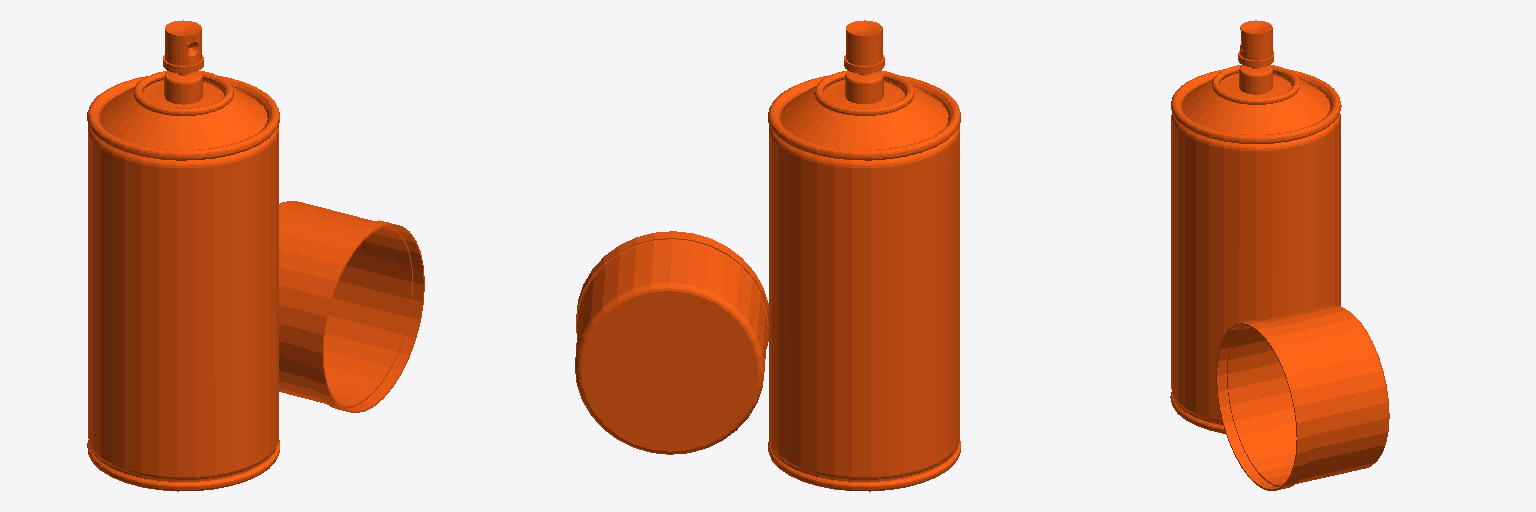
URDF robot description (apple):
<?xml version="1.0" encoding="utf-8"?>
<robot name="apple">
  <link name="base_link">
    <contact>
      <lateral_friction value="0.5"/>
      <rolling_friction value="0.0"/>
      <contact_cfm value="0.0"/>
      <contact_erp value="1.0"/>
    </contact>
    <inertial>
      <origin rpy="0 0 0" xyz="0 0 0"/>
      <mass value=".1"/>
      <inertia ixx="0" ixy="0" ixz="0" iyy="0" iyz="0" izz="0"/>
    </inertial>
    <visual>
      <origin rpy="1.57 0 0" xyz="0 0 0"/>
      <geometry>
        <mesh filename="models/meshes/spraypaint/spraycan.obj" scale="0.1 0.1 0.1"/>
      </geometry>
      <material name="hi">
        <color rgba="1 0.4 0.1 1"/>
      </material>
    </visual>
    <collision>
      <origin rpy="1.57 0 0" xyz="0 0 0"/>
      <geometry>
        <mesh filename="models/meshes/spraypaint/spraycan.obj" scale="0.1 0.1 0.1"/>
      </geometry>
    </collision>
  </link>
</robot>

--- What the picture shows (computed from the rendered views, not written in the file) ---
Views: 3 orthographic renders of the robot side by side, from view 1: azimuth 30°, elevation 25°; view 2: azimuth 150°, elevation 25°; view 3: azimuth 270°, elevation 25°.
Robot: apple — 1 links, 0 joints (none); root link base_link; default pose: all joints at 0.
Links seen in each view (by area): view 1: base_link; view 2: base_link; view 3: base_link.
Link boxes in pixels (left/top/right/bottom): base_link: left=87, top=20, right=424, bottom=491; base_link: left=575, top=20, right=960, bottom=491; base_link: left=1170, top=20, right=1389, bottom=490.
Size in the robot's own frame: 0.4521 by 0.2788 by 0.5271 metres.
Meshes: 1 distinct files referenced, 1 mesh visuals loaded (1 OBJ).